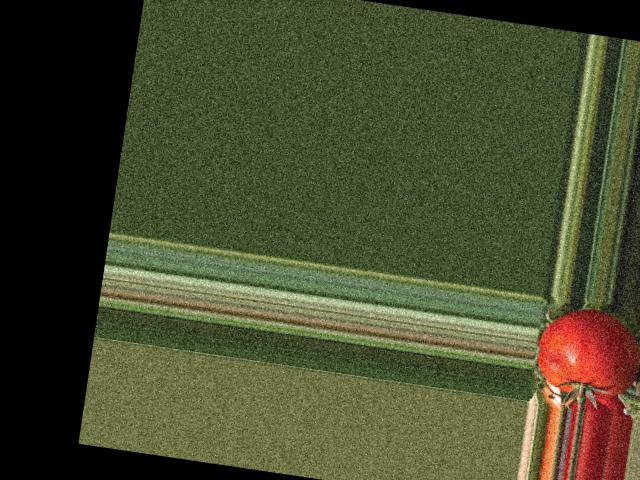tomato: (532, 303, 640, 404)
